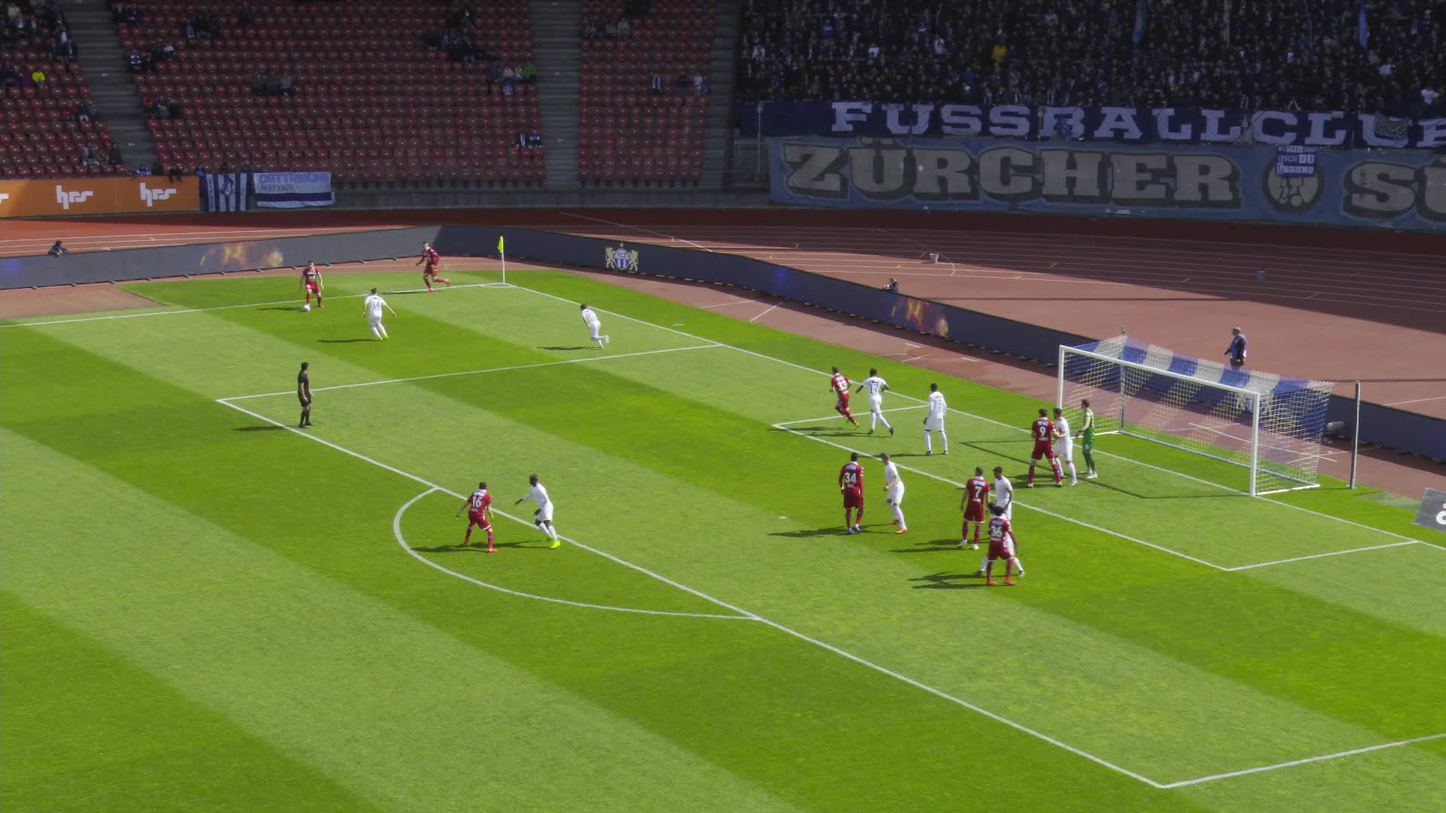ball: (302, 304, 310, 311)
player: (974, 501, 1019, 580), (516, 471, 560, 550), (980, 509, 1020, 586), (456, 480, 496, 550), (957, 467, 990, 551), (1027, 408, 1060, 486), (913, 384, 948, 455), (877, 452, 908, 531), (856, 370, 892, 435), (837, 453, 866, 533), (828, 365, 862, 427), (1072, 398, 1098, 479), (1052, 406, 1077, 484), (362, 287, 396, 342), (990, 466, 1013, 547), (418, 240, 453, 292), (577, 301, 612, 349), (294, 257, 321, 311)
referee: (295, 361, 316, 428)
